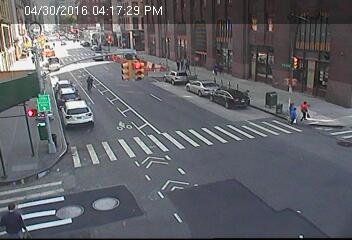neg: (306, 160, 326, 186), (245, 118, 264, 144), (230, 172, 247, 195), (269, 173, 286, 196), (119, 63, 135, 84), (201, 114, 217, 135), (83, 71, 98, 92), (142, 125, 157, 145), (184, 177, 198, 196), (127, 171, 141, 189), (48, 8, 62, 26), (148, 11, 161, 29), (69, 134, 82, 151), (237, 19, 250, 36), (194, 15, 206, 32), (156, 90, 168, 105), (22, 104, 33, 119), (98, 12, 109, 27), (312, 37, 322, 51), (57, 41, 67, 55), (171, 143, 181, 156), (279, 46, 288, 59)
pos: (282, 100, 298, 122), (300, 98, 314, 117), (208, 61, 221, 77)
